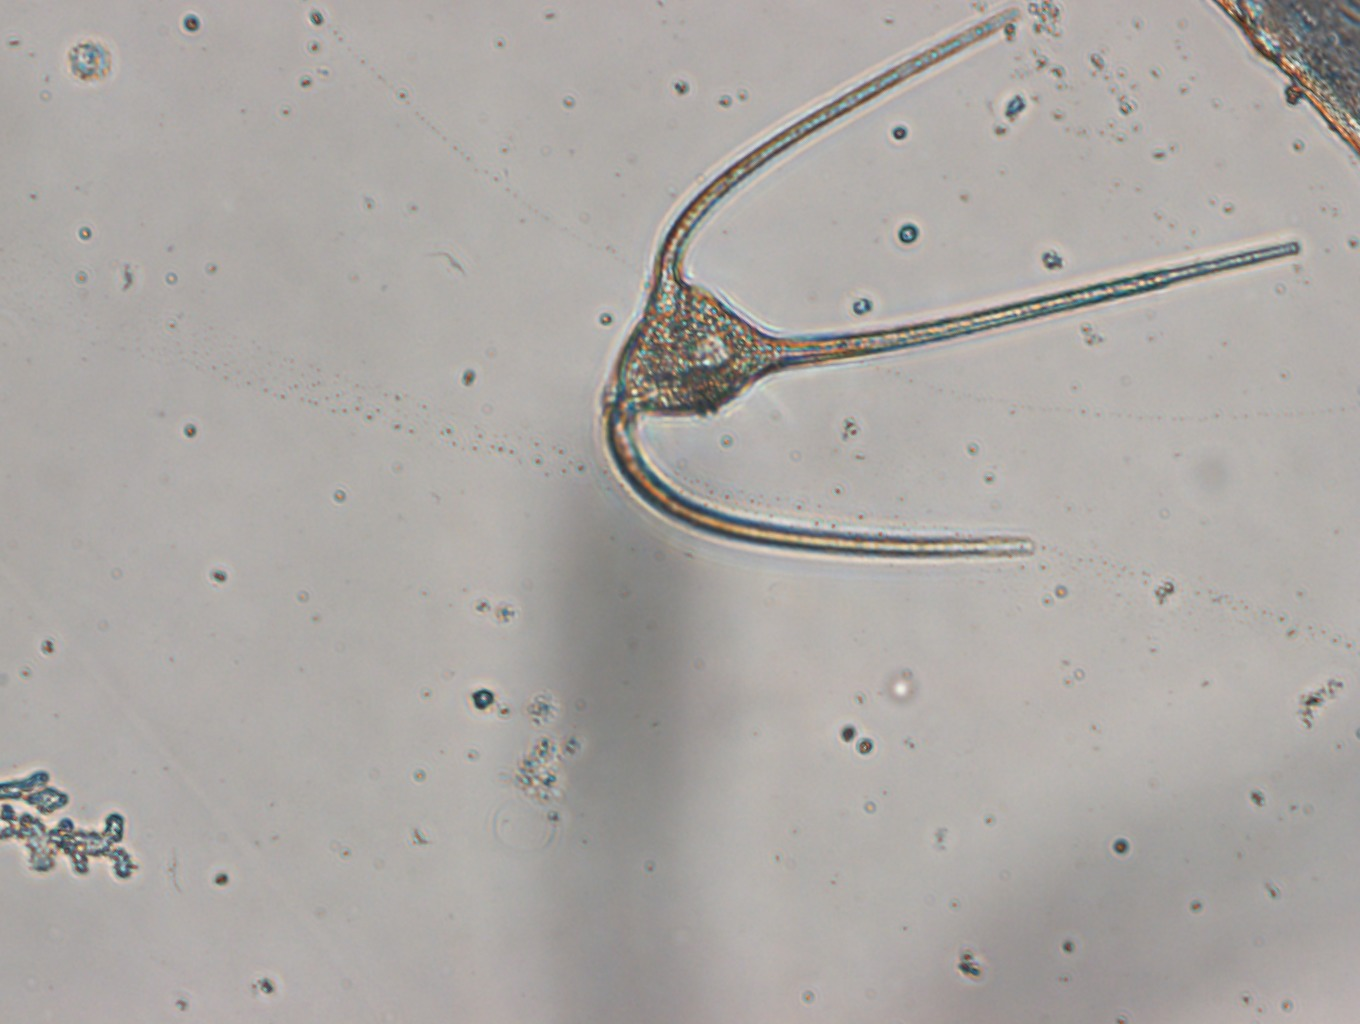ceratium trichoceros: (595, 5, 1301, 560)
